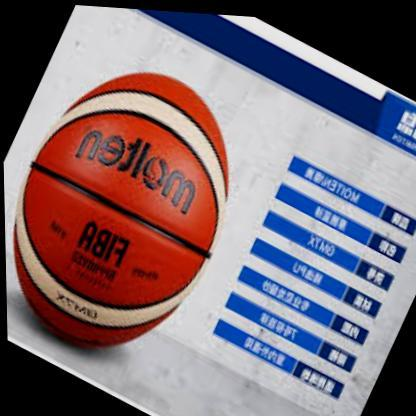basketball: (0, 28, 273, 390)
